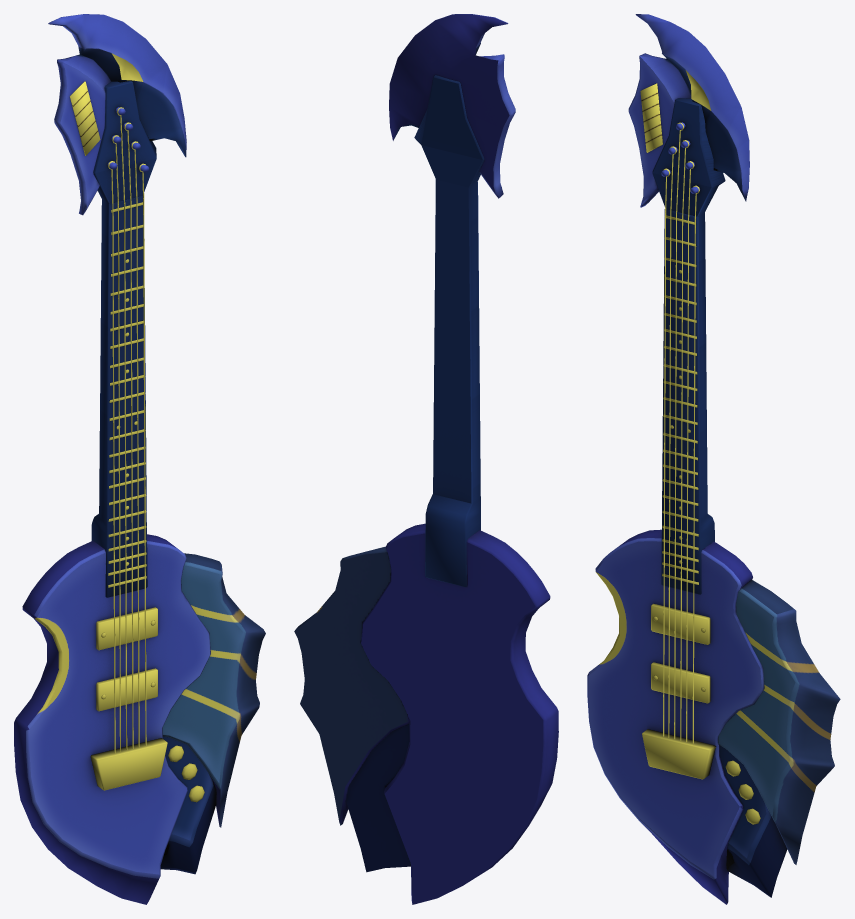
The model's file is sb69_yasu_guitar.glb.
3 renders of one model, left to right at view 1: azimuth 30°, elevation 25°; view 2: azimuth 150°, elevation 25°; view 3: azimuth 330°, elevation 25°, orthographic. The views are drawn at different scales.
Parts seen in each view (by area): view 1: sb69_yasu_guitar; view 2: sb69_yasu_guitar; view 3: sb69_yasu_guitar.
Part boxes in pixels (x1=…): sb69_yasu_guitar: x1=14, y1=14, x2=265, y2=904; sb69_yasu_guitar: x1=294, y1=14, x2=558, y2=904; sb69_yasu_guitar: x1=587, y1=14, x2=840, y2=904.
Bounding box in the file's own units: 0.3971 × 1.37 × 0.0625.
1 material, 1 textured.
